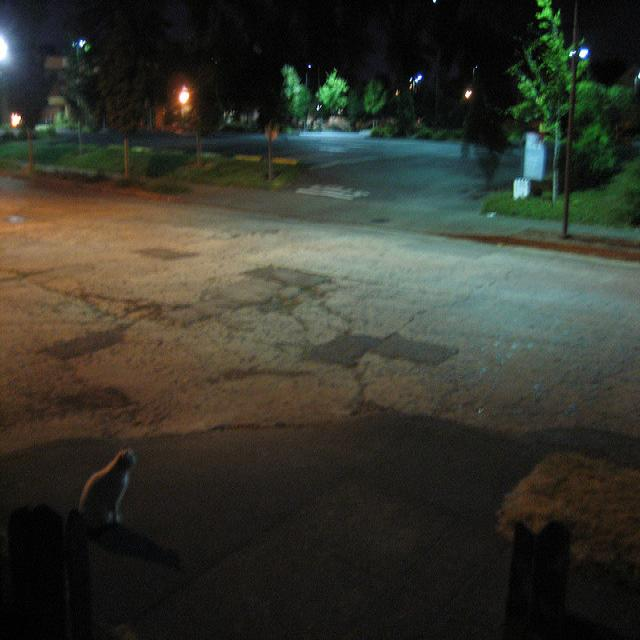Cat: (74, 445, 151, 547)
